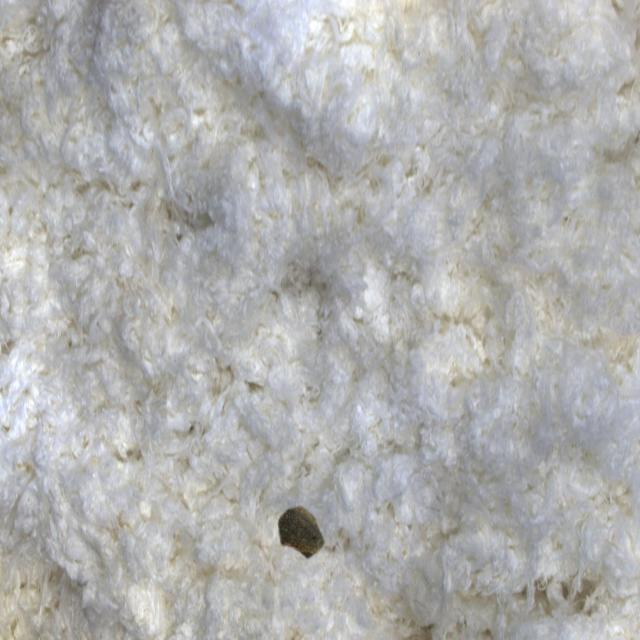dust: (266, 478, 350, 592)
